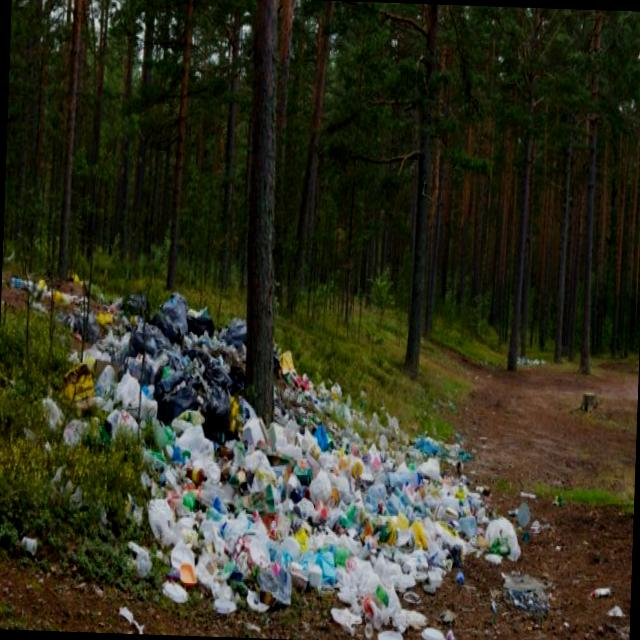garbage: (29, 262, 550, 640)
